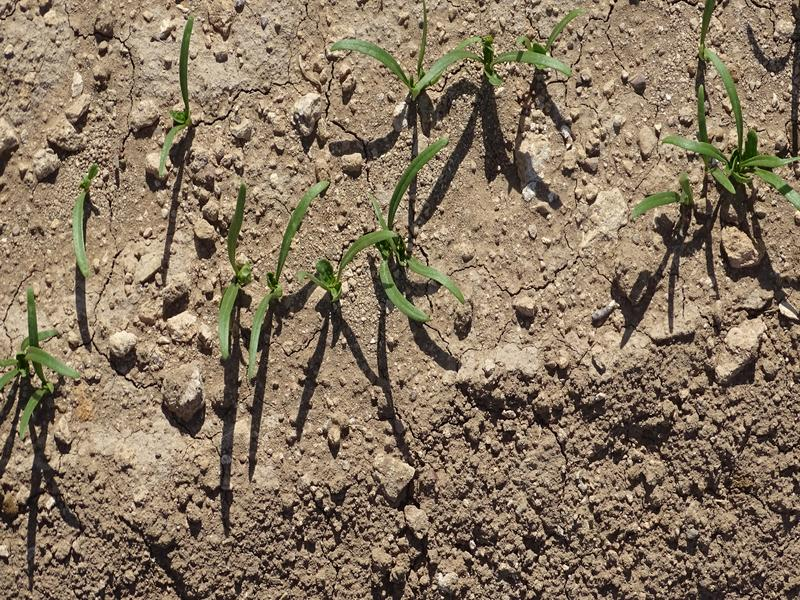Espinaca: (205, 170, 328, 373), (331, 16, 571, 106), (663, 59, 800, 204), (364, 134, 461, 317), (1, 290, 73, 416), (148, 16, 193, 175), (314, 231, 362, 297), (67, 168, 90, 267)
